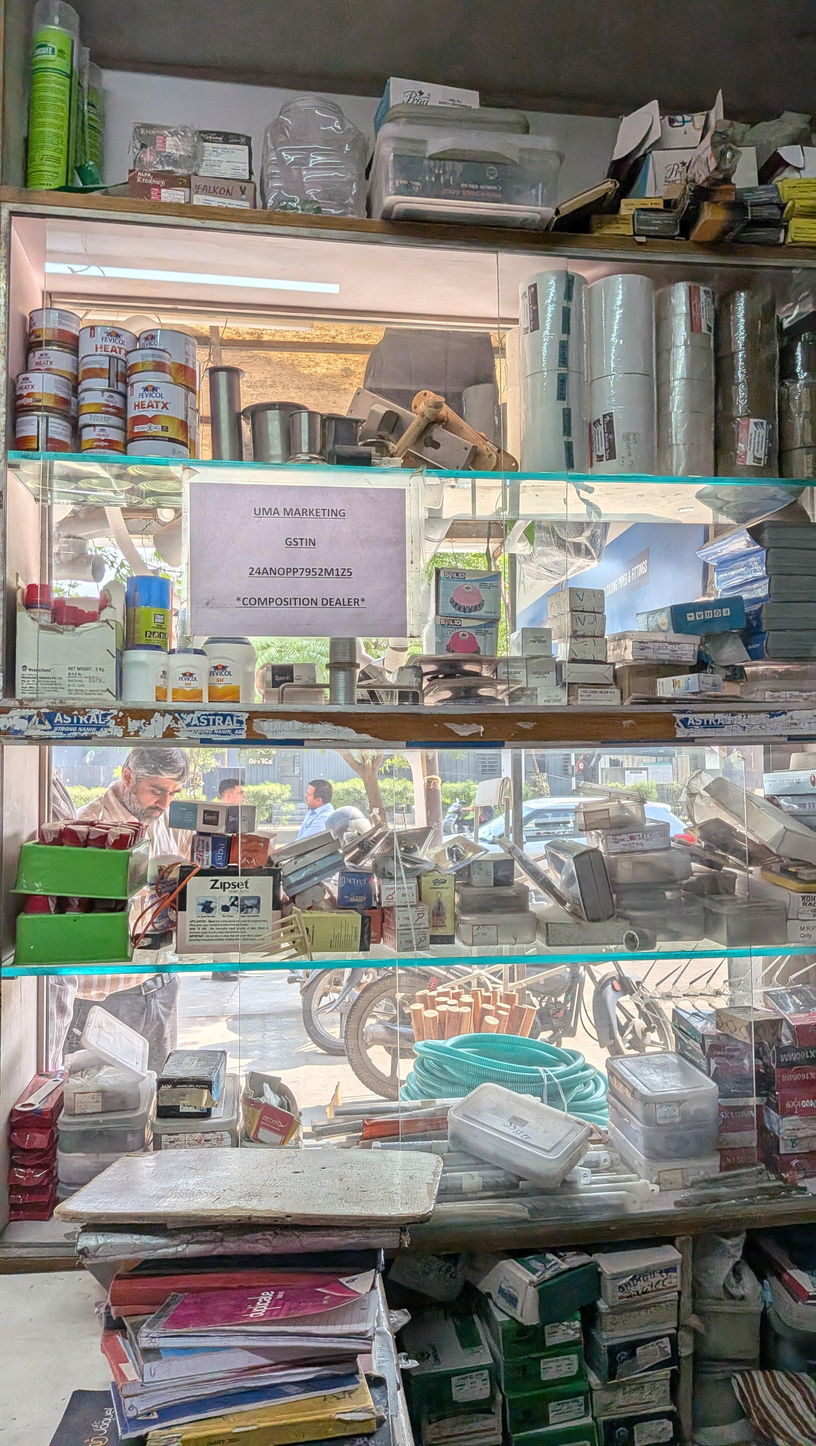Fevicol_HEATX: (128, 378, 188, 457), (77, 324, 137, 392), (139, 328, 197, 392), (16, 371, 72, 419), (14, 412, 72, 453), (28, 308, 80, 352), (79, 388, 128, 430), (26, 347, 78, 386), (79, 355, 127, 395), (127, 348, 170, 383), (81, 425, 125, 455), (186, 390, 199, 457)
